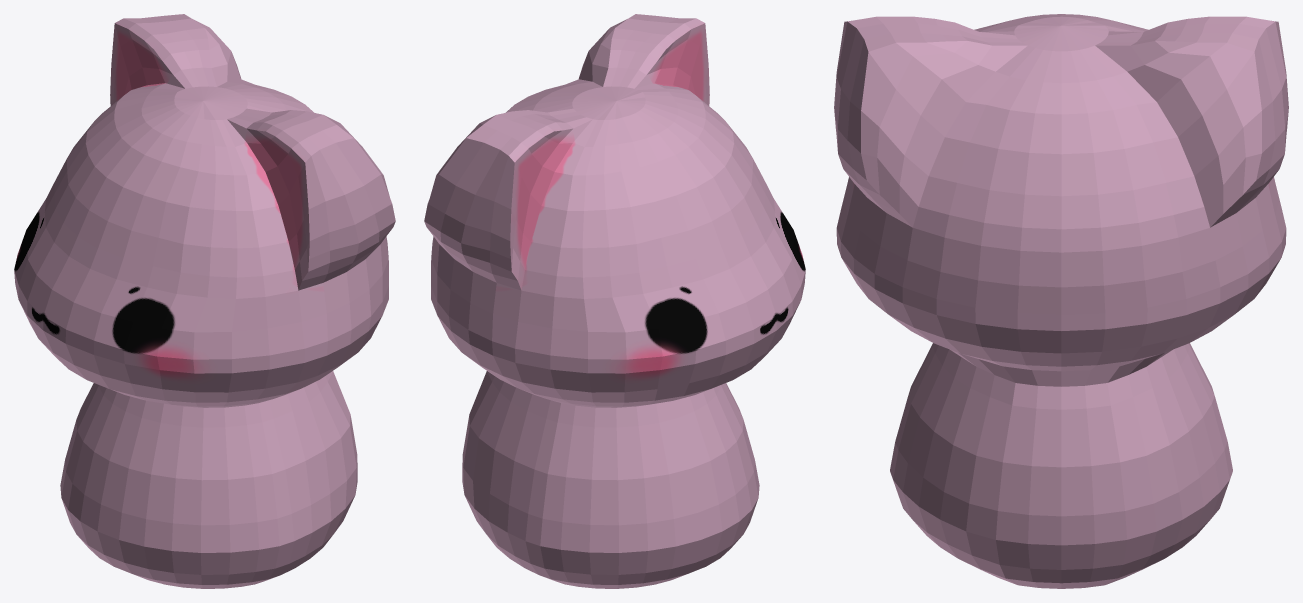
The model's file is hapticos_cat.fbx.
The picture shows the model from 3 angles, left to right: view 1: azimuth 30°, elevation 25°; view 2: azimuth 150°, elevation 25°; view 3: azimuth 270°, elevation 25°; orthographic projection. The views are drawn at different scales.
Parts seen in each view (by area): view 1: Gato Mirror; view 2: Gato Mirror; view 3: Gato Mirror.
Boxes of the visible parts, <box> form: Gato Mirror: <box>14,14,395,588</box>; Gato Mirror: <box>424,14,805,588</box>; Gato Mirror: <box>834,14,1288,588</box>.
Size of the model in its own units: 173 by 249 by 187.
Materials: 1 (1 with a texture image).
